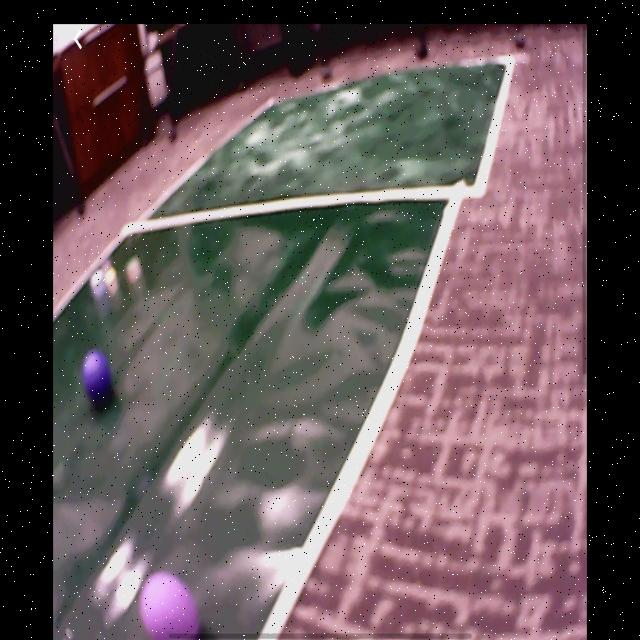ball: (140, 573, 200, 640), (83, 349, 112, 404)
